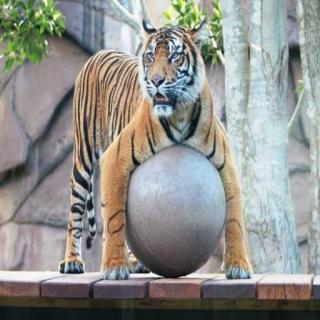Tiger: (62, 22, 280, 296)
